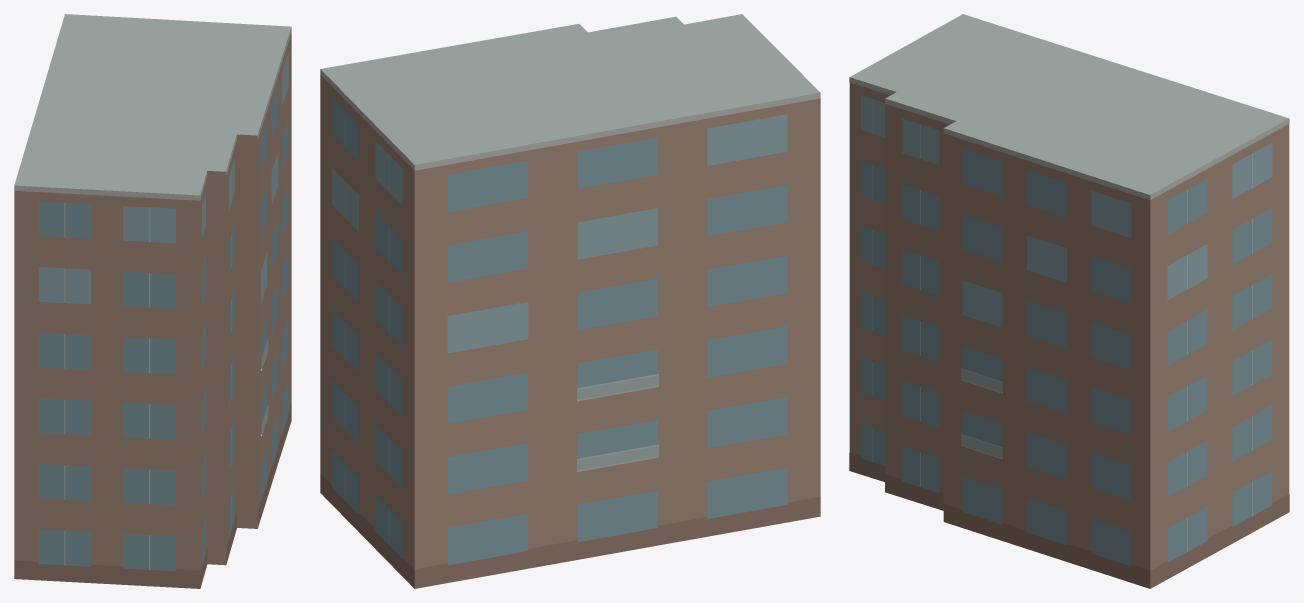
The model's file is survey-upis-32988284.glb.
3 renders of one model, left to right at view 1: azimuth 30°, elevation 25°; view 2: azimuth 150°, elevation 25°; view 3: azimuth 270°, elevation 25°, orthographic. The views are drawn at different scales.
Parts seen in each view (by area): view 1: survey-upis-32988284.tmp; view 2: survey-upis-32988284.tmp; view 3: survey-upis-32988284.tmp.
Part boxes in pixels (left/top/right/bottom): survey-upis-32988284.tmp: left=14, top=14, right=291, bottom=588; survey-upis-32988284.tmp: left=320, top=14, right=820, bottom=588; survey-upis-32988284.tmp: left=849, top=14, right=1289, bottom=588.
Size of the model in its own units: 18.06 by 18.3 by 18.54.
